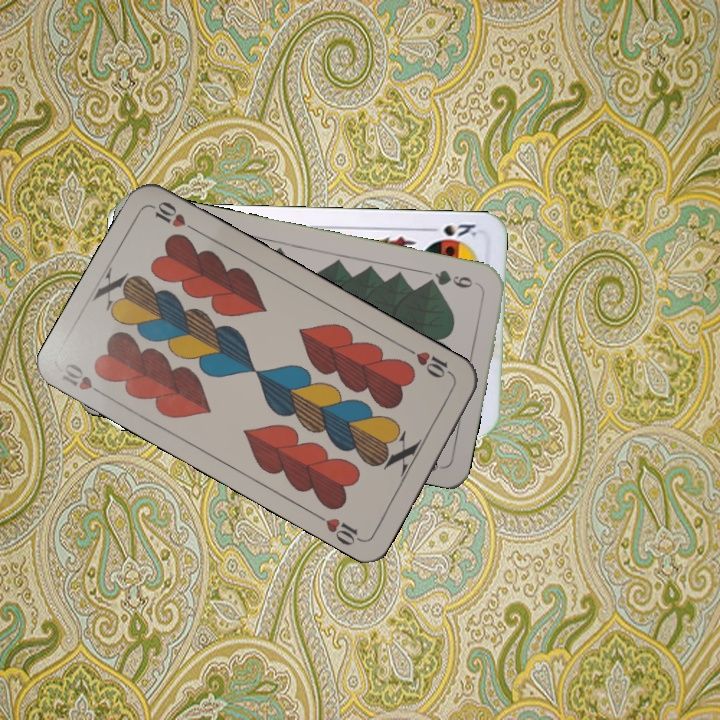G9: (422, 265, 481, 291)
H10: (57, 357, 111, 401), (403, 344, 457, 381)
SK: (422, 220, 481, 241)
